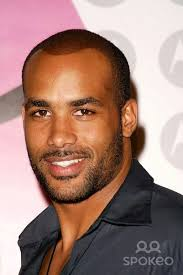person: (21, 29, 139, 204)
